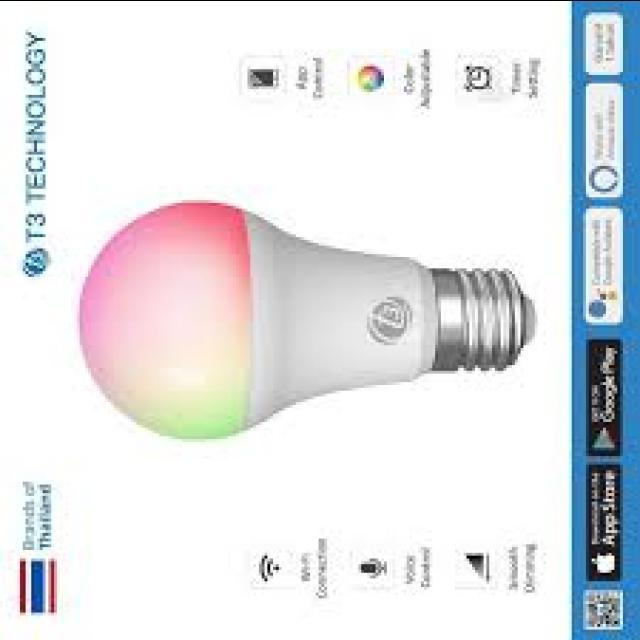light_bulb: (62, 188, 542, 460)
